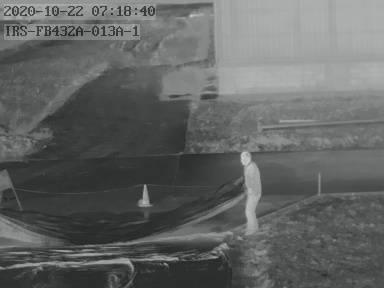person: (237, 152, 263, 233)
